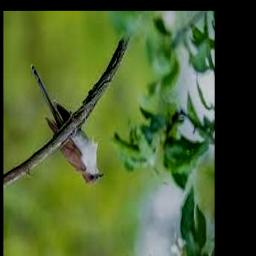Cuckoo: (31, 65, 104, 185)
